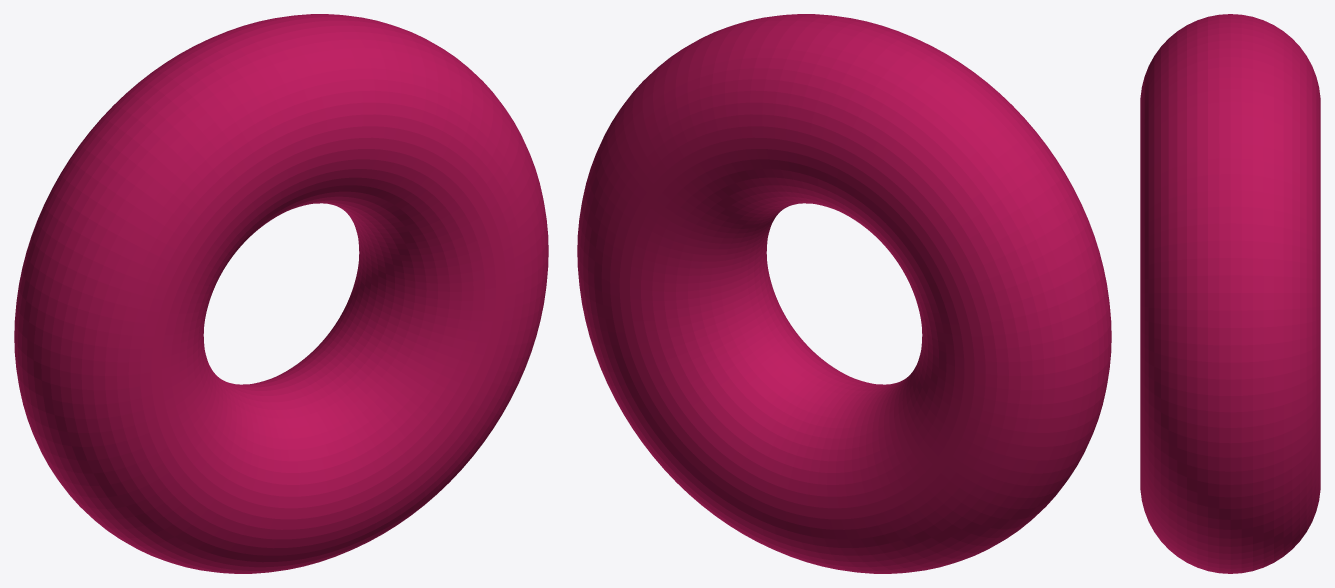
3 renders of one model, left to right at view 1: azimuth 30°, elevation 25°; view 2: azimuth 150°, elevation 25°; view 3: azimuth 270°, elevation 25°, orthographic. The views are drawn at different scales.
Visible parts, largest first — view 1: world; view 2: world; view 3: world.
Boxes of the visible parts, box(x1,y1,x2,y2) form: world: box(14, 14, 548, 573); world: box(577, 14, 1111, 573); world: box(1140, 14, 1320, 573).
Size of the model in its own units: 28.53 by 28.53 by 9.18.
